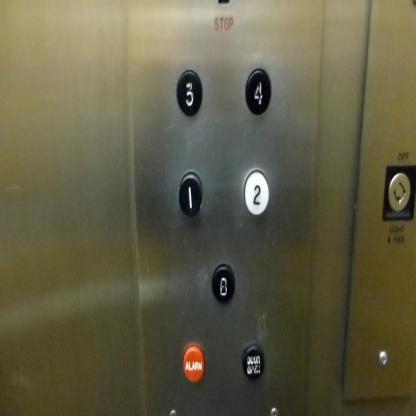1: (177, 167, 204, 221)
2: (242, 165, 270, 220)
3: (174, 65, 204, 119)
4: (242, 63, 273, 117)
B: (209, 260, 236, 307)
keyhole: (382, 162, 416, 226)
text_alarm bell: (180, 341, 206, 386)
text_door open: (240, 340, 266, 385)
